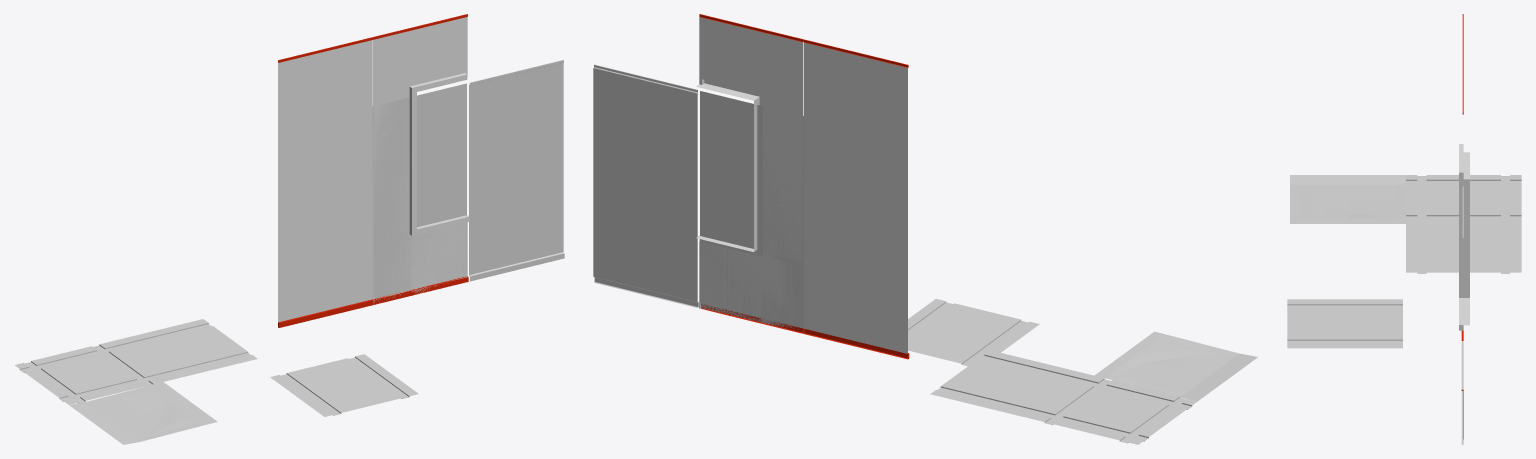
The model's file is wall_04.fbx.
The picture shows the model from 3 angles, left to right: view 1: azimuth 30°, elevation 25°; view 2: azimuth 150°, elevation 25°; view 3: azimuth 270°, elevation 25°; orthographic projection. The views are drawn at different scales.
Visible parts, largest first — view 1: wall_01, wall_01.001, wall_02, wall_01.002, floor_Flat_04, floor_Flat_02, floor_Flat_01, floor_Flat_03; view 2: wall_01, wall_01.001, wall_01.002, wall_02, floor_Flat_03, floor_Flat_02, floor_Flat_01, floor_Flat_04; view 3: floor_Flat_04, floor_Flat_01, floor_Flat_02, floor_Flat_03, wall_01.002, wall_01.001.
Part boxes in pixels (x1,y1,x2,y2): wall_01: [278, 37, 373, 327]; wall_01.001: [469, 60, 564, 281]; wall_02: [372, 83, 467, 304]; wall_01.002: [373, 14, 469, 304]; floor_Flat_04: [270, 354, 418, 416]; floor_Flat_02: [109, 319, 257, 381]; floor_Flat_01: [69, 382, 217, 444]; floor_Flat_03: [14, 342, 162, 404]; wall_01: [804, 39, 909, 359]; wall_01.001: [593, 64, 698, 307]; wall_01.002: [696, 14, 803, 333]; wall_02: [700, 91, 803, 333]; floor_Flat_03: [1034, 375, 1197, 444]; floor_Flat_02: [930, 350, 1093, 419]; floor_Flat_01: [1094, 331, 1257, 400]; floor_Flat_04: [908, 299, 1039, 366]; floor_Flat_04: [1287, 299, 1402, 348]; floor_Flat_01: [1290, 175, 1405, 223]; floor_Flat_02: [1406, 224, 1521, 273]; floor_Flat_03: [1406, 175, 1521, 224]; wall_01.002: [1459, 63, 1469, 390]; wall_01.001: [1461, 186, 1463, 444].
Size of the model in its own units: 552 by 291 by 202.
